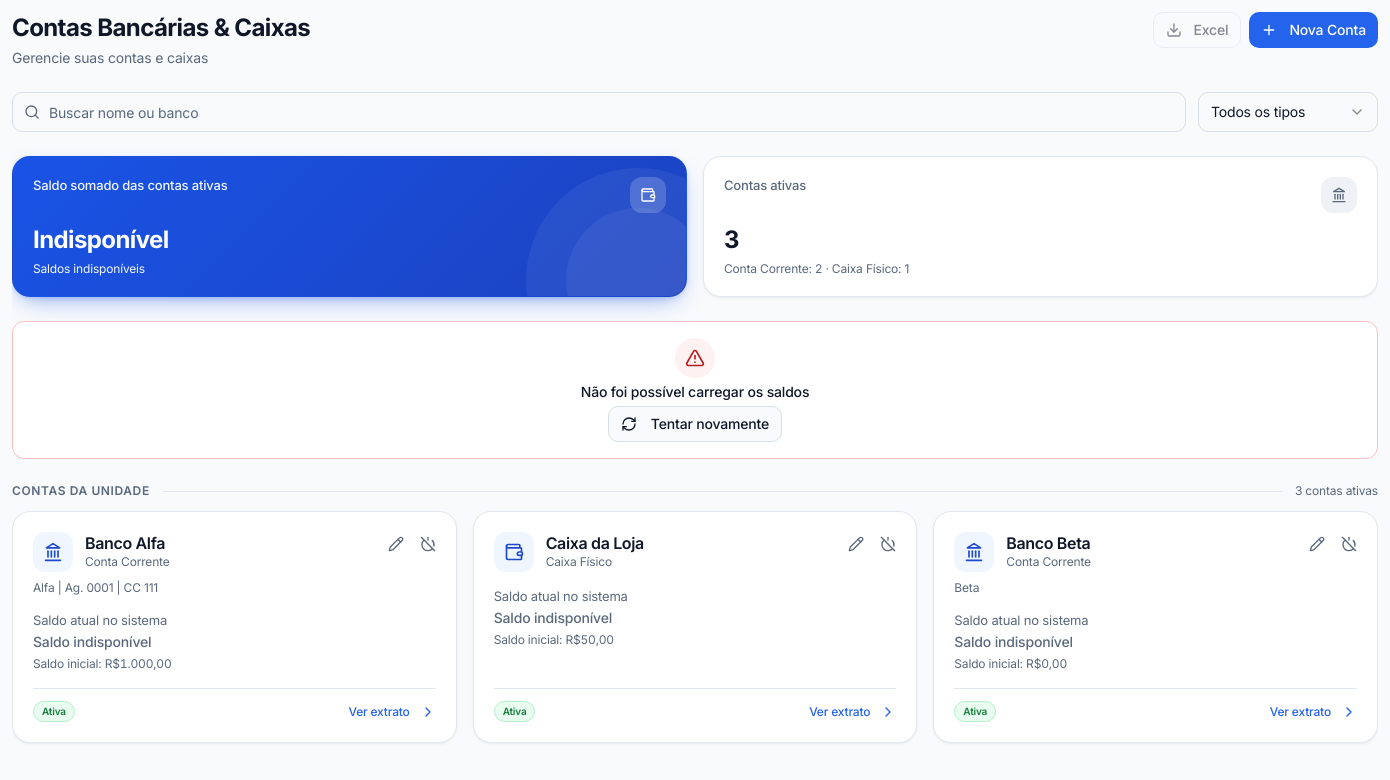
Test case: Contas Bancárias (V2) › erro dos saldos não vira zero
The image size is (1390, 780).
Expected: the text "Não foi possível carregar os saldos" is shown, [581,383,809,400]
Expected: the text "Indisponível" is shown, [33,225,169,254]
What coordinates should you click on to do the following:
click the button "Tentar novamente"
I would click on:
 (695, 424)
Its box is [608,406,782,442].
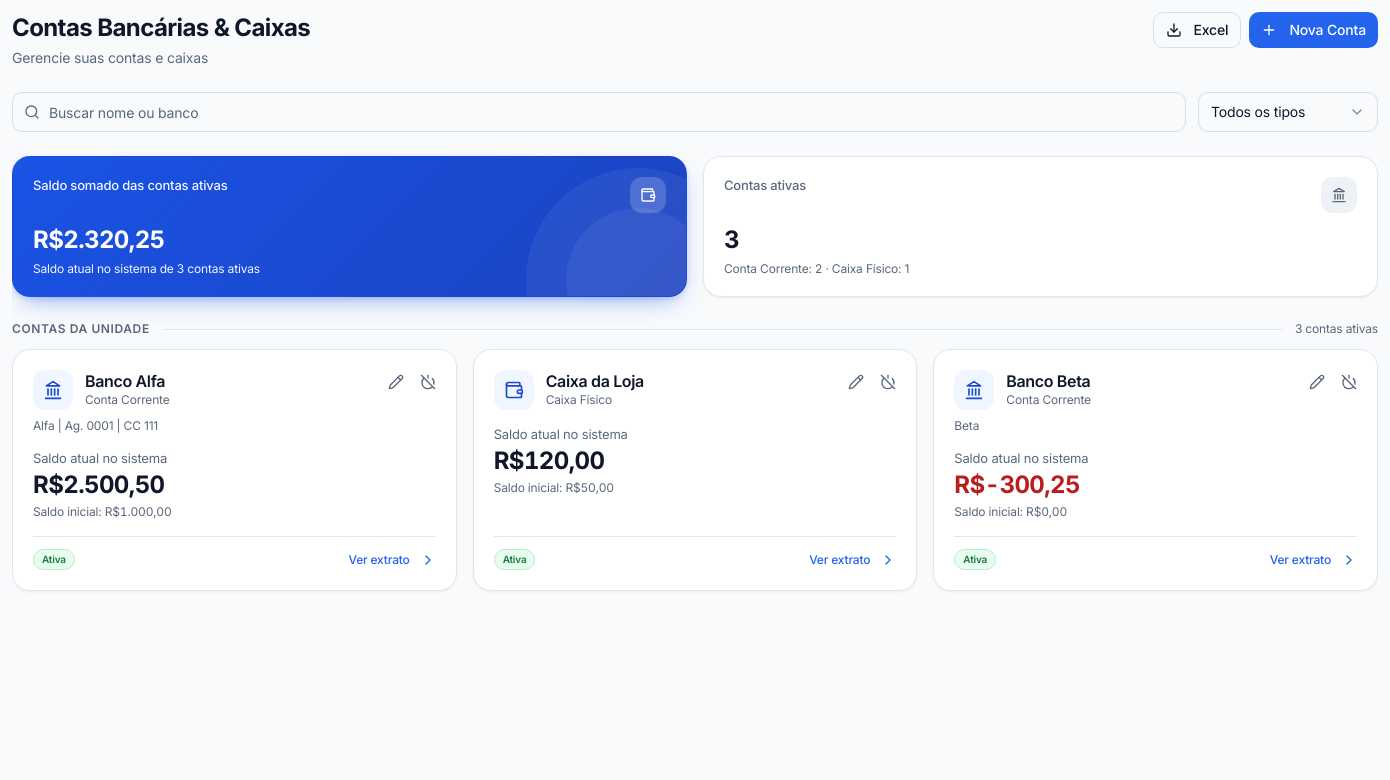
Now the button "Excel" is enabled, box [1152,12,1241,48]
